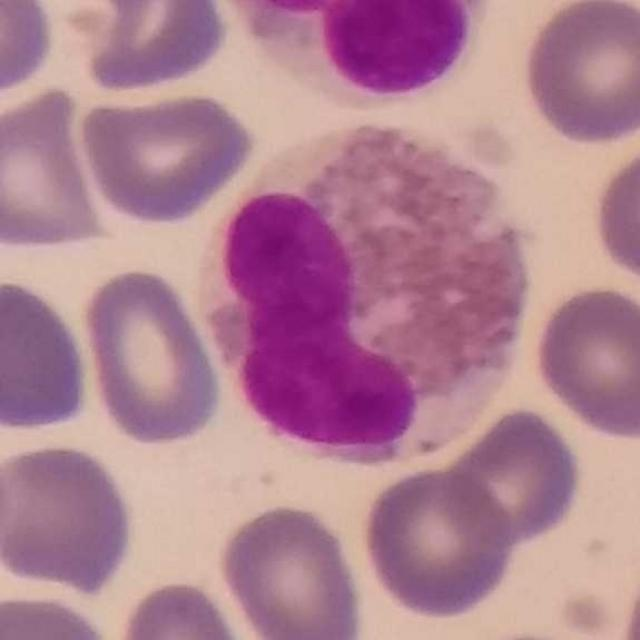Eosinophil: (195, 124, 538, 467), (230, 2, 498, 111)
RBC: (78, 264, 226, 451), (357, 461, 520, 622), (76, 86, 259, 227), (0, 438, 139, 598), (213, 498, 369, 640), (438, 403, 586, 549), (0, 82, 114, 257), (528, 281, 640, 443), (517, 0, 639, 148), (52, 0, 232, 97), (0, 272, 95, 438), (111, 575, 256, 640), (589, 132, 640, 298), (0, 0, 59, 106), (0, 589, 117, 640), (0, 426, 16, 584), (615, 542, 640, 640)
